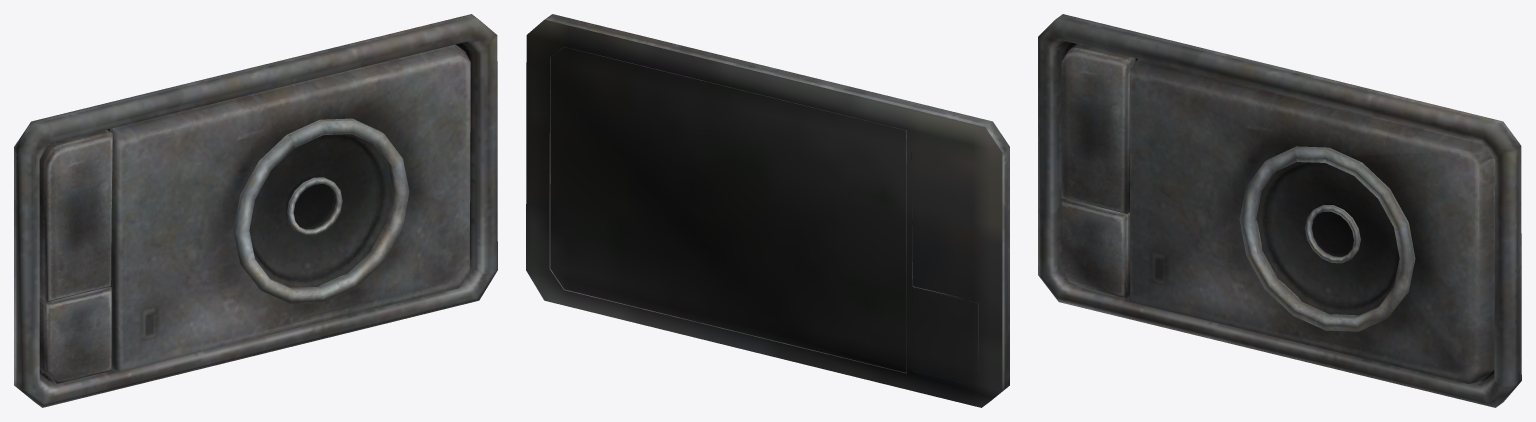
File: cord_server_socket.dae
The picture shows the model from 3 angles, left to right: view 1: azimuth 30°, elevation 25°; view 2: azimuth 150°, elevation 25°; view 3: azimuth 330°, elevation 25°; orthographic projection.
Visible parts, largest first — view 1: cord_server_socket; view 2: cord_server_socket; view 3: cord_server_socket.
Part boxes in pixels (x1=…): cord_server_socket: x1=14, y1=14, x2=497, y2=407; cord_server_socket: x1=526, y1=14, x2=1009, y2=407; cord_server_socket: x1=1038, y1=14, x2=1521, y2=407.
Bounding box in the file's own units: 0.1506 × 0.0851 × 0.00846.
